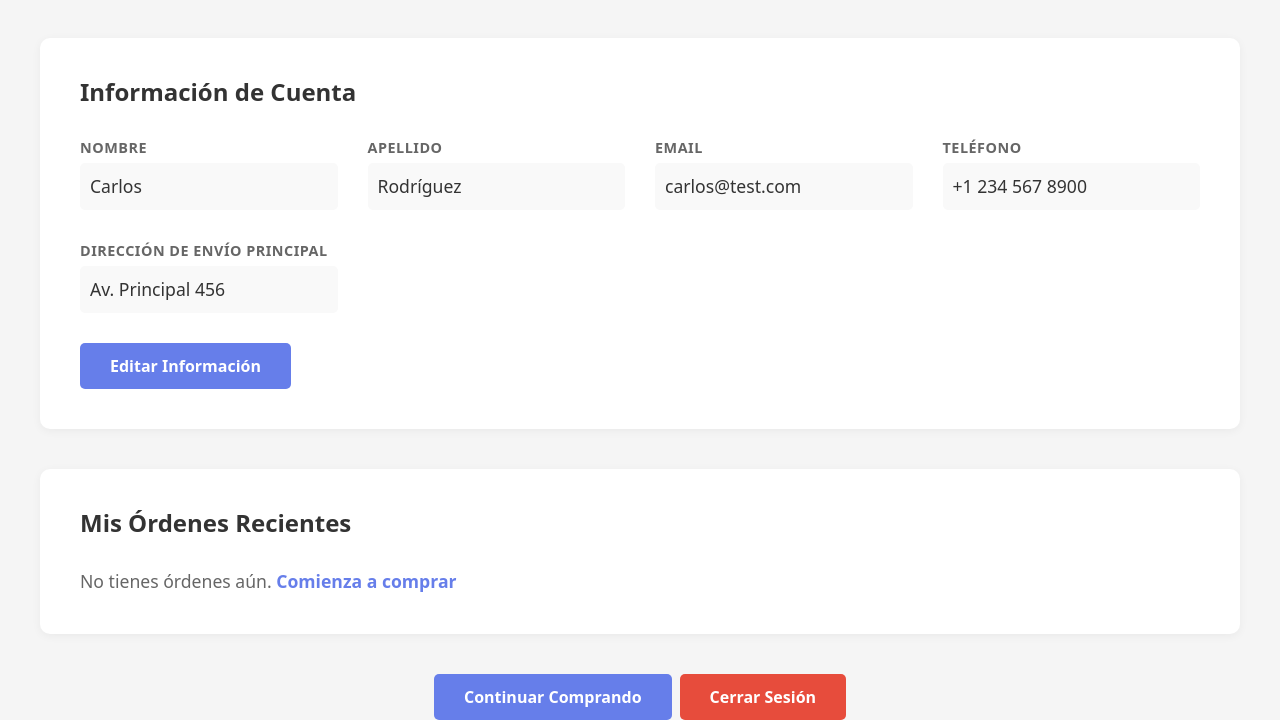
Test: Dashboard Page › Modo Edición de Información › debe mostrar el formulario de edición al hacer clic en "Editar Información"
The image size is (1280, 720).
Click the button "Editar Información" at (186, 366), box [80, 343, 291, 389]
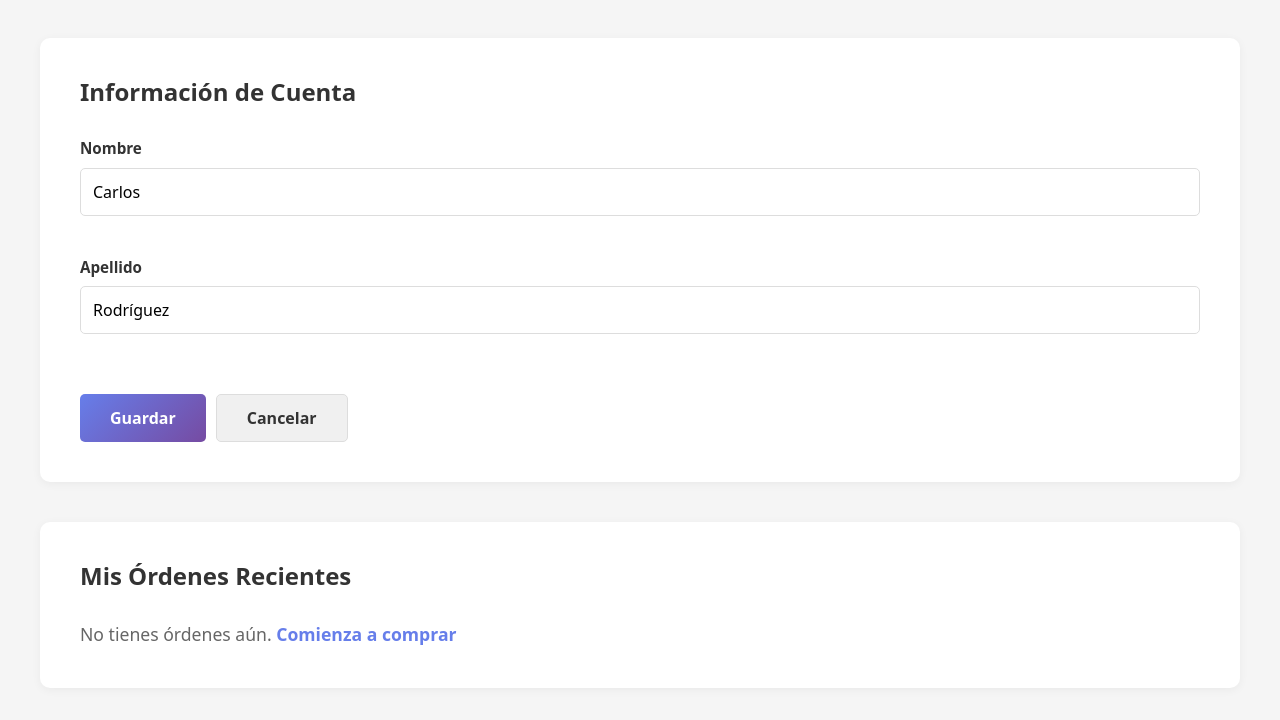
Check: the button "Guardar" is shown, box [80, 394, 206, 442]
Check: the button "Cancelar" is shown, box [216, 394, 348, 442]
